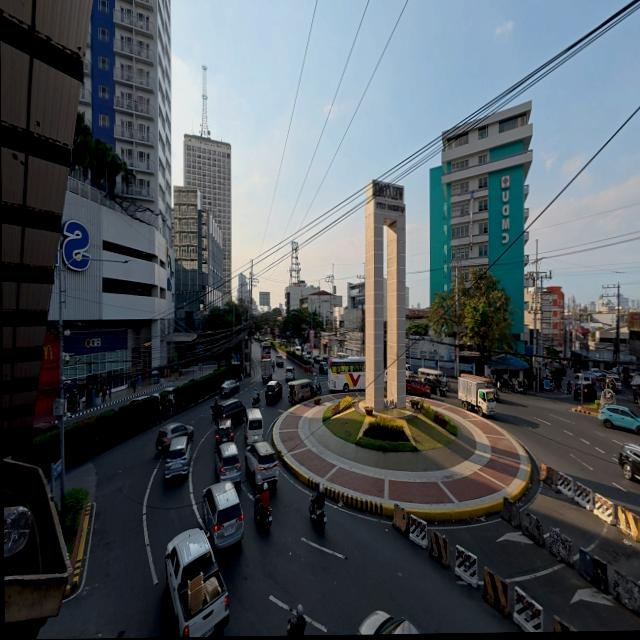Jeepneys: (287, 379, 315, 404)
bus: (328, 357, 364, 392), (261, 342, 271, 359)
car: (164, 529, 228, 636), (202, 482, 243, 551), (244, 442, 278, 487), (357, 611, 419, 634), (598, 405, 639, 435), (165, 436, 192, 478), (214, 443, 241, 483), (155, 423, 192, 452), (210, 399, 245, 424), (618, 443, 639, 481), (216, 417, 234, 445), (405, 378, 430, 398), (422, 377, 446, 396), (572, 383, 596, 401), (32, 422, 58, 438), (265, 381, 281, 403), (159, 387, 174, 409), (220, 380, 238, 396), (605, 376, 620, 393), (128, 395, 149, 404), (285, 366, 295, 382), (318, 362, 328, 375), (589, 368, 601, 377), (275, 355, 283, 367), (312, 354, 321, 364), (405, 365, 411, 377), (303, 353, 310, 361), (637, 399, 639, 407)
motorcycle: (309, 494, 326, 530), (254, 505, 271, 530), (513, 380, 525, 394), (313, 379, 321, 394), (251, 395, 259, 407), (566, 381, 571, 394)
trucks: (165, 529, 228, 636), (457, 376, 494, 415), (260, 358, 271, 381)
vans: (245, 408, 262, 443), (417, 368, 443, 381)
